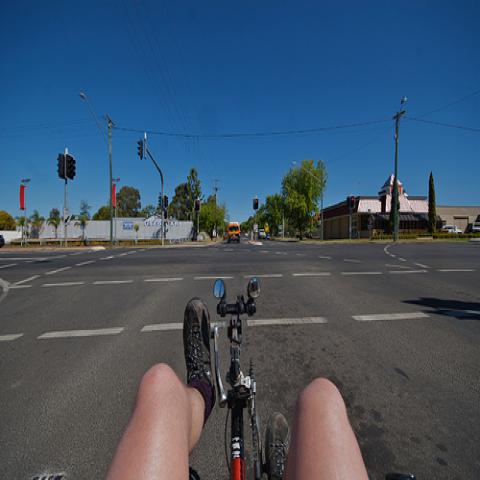car: (258, 228, 266, 238)
truck: (227, 221, 241, 244)
